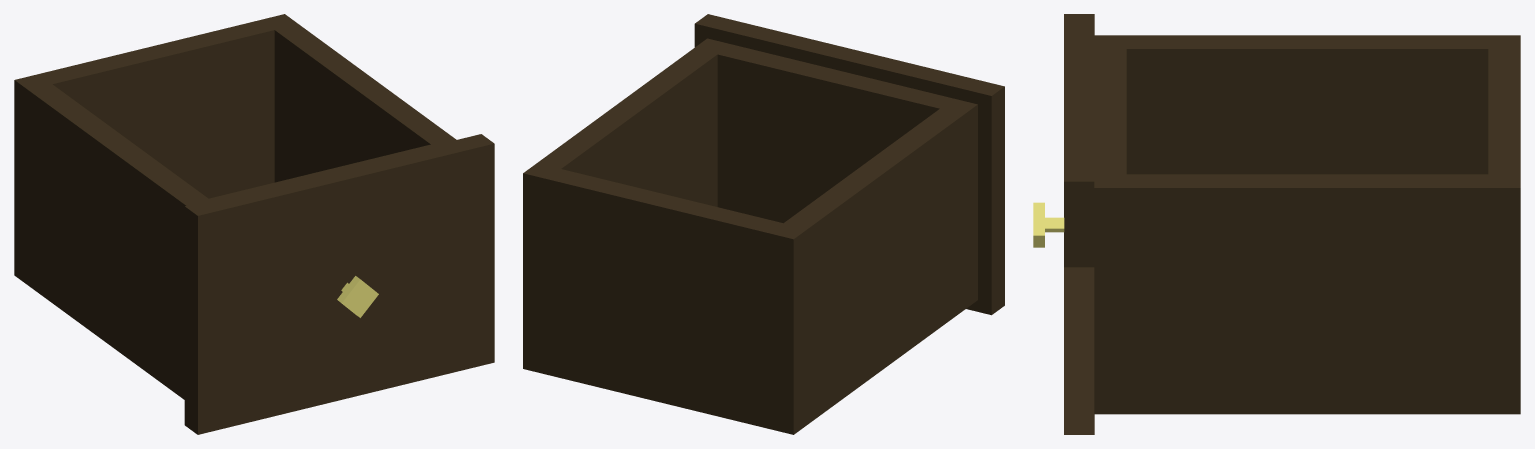
The model's file is Itr_Wardrobe2_Drawer_Small_02.FBX.
3 renders of one model, left to right at view 1: azimuth 30°, elevation 25°; view 2: azimuth 150°, elevation 25°; view 3: azimuth 270°, elevation 25°, orthographic. The views are drawn at different scales.
Parts seen in each view (by area): view 1: Itr_Wardrobe2_Drawer_Small_02; view 2: Itr_Wardrobe2_Drawer_Small_02; view 3: Itr_Wardrobe2_Drawer_Small_02.
Part boxes in pixels (x1,y1,x2,y2): Itr_Wardrobe2_Drawer_Small_02: [14, 14, 494, 434]; Itr_Wardrobe2_Drawer_Small_02: [523, 14, 1004, 434]; Itr_Wardrobe2_Drawer_Small_02: [1033, 14, 1520, 434].
Bounding box in the file's own units: 18.79 × 13.26 × 23.09.
